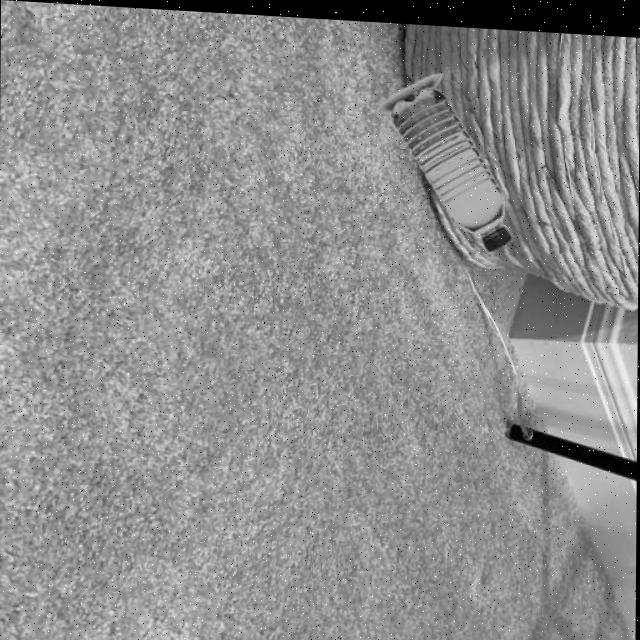bottle: (375, 63, 516, 248)
